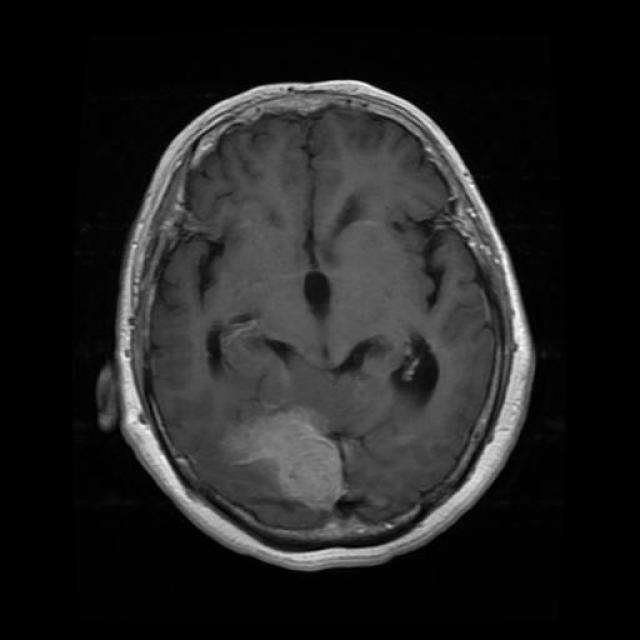meningioma: (244, 395, 350, 497)
